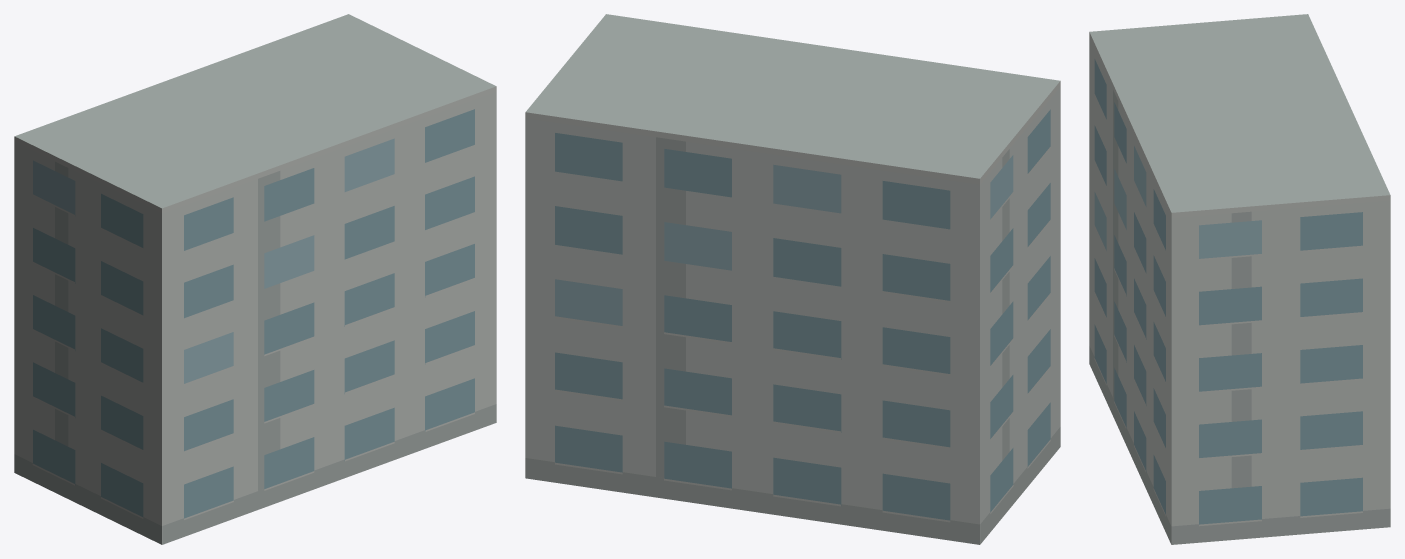
File: residential-abd9ef33-c795-4138-a595-cf0eb11086e3.glb
3 renders of one model, left to right at view 1: azimuth 30°, elevation 25°; view 2: azimuth 150°, elevation 25°; view 3: azimuth 270°, elevation 25°, orthographic. The views are drawn at different scales.
Parts seen in each view (by area): view 1: residential-abd9ef33-c795-4138-a595-cf0eb11086e3.tmp; view 2: residential-abd9ef33-c795-4138-a595-cf0eb11086e3.tmp; view 3: residential-abd9ef33-c795-4138-a595-cf0eb11086e3.tmp.
Part boxes in pixels (box(x1,y1,x2,y2)): residential-abd9ef33-c795-4138-a595-cf0eb11086e3.tmp: box(14, 14, 496, 544); residential-abd9ef33-c795-4138-a595-cf0eb11086e3.tmp: box(525, 14, 1060, 544); residential-abd9ef33-c795-4138-a595-cf0eb11086e3.tmp: box(1089, 14, 1390, 544).
Size of the model in its own units: 19.59 by 15.25 by 12.55.
